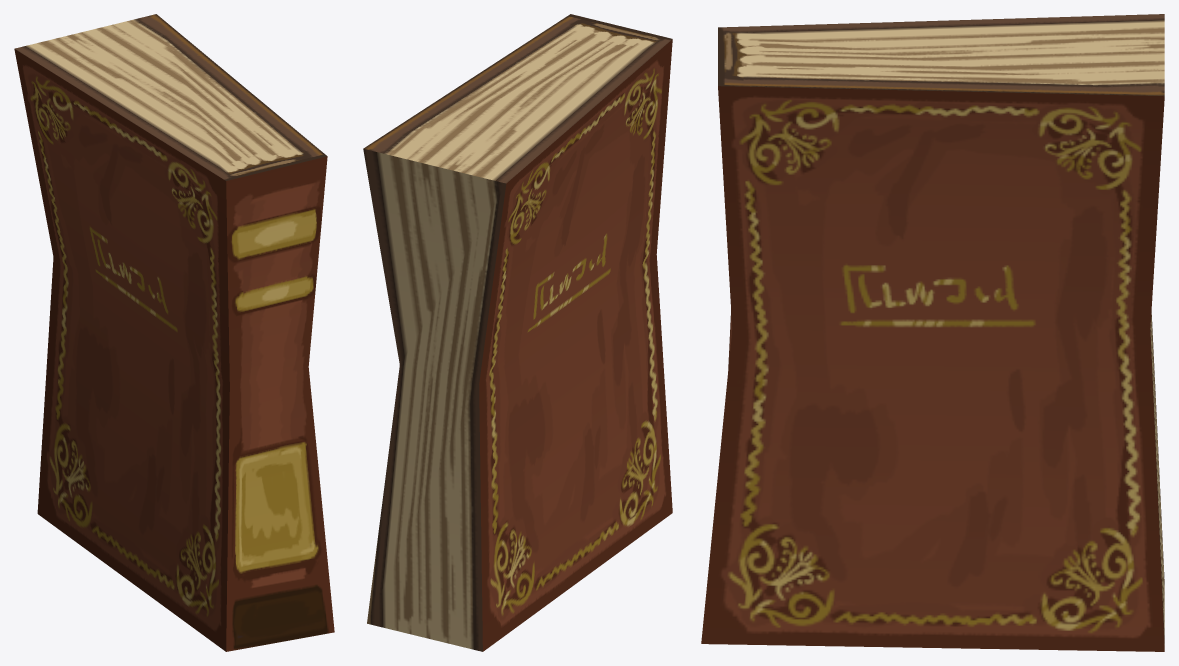
File: SM_PROP_book_dungeon_01.fbx
The picture shows the model from 3 angles, left to right: view 1: azimuth 30°, elevation 25°; view 2: azimuth 150°, elevation 25°; view 3: azimuth 270°, elevation 25°; orthographic projection. The views are drawn at different scales.
Visible parts, largest first — view 1: SM_PROP_book_dungeon_01; view 2: SM_PROP_book_dungeon_01; view 3: SM_PROP_book_dungeon_01.
Boxes of the visible parts, left/top/right/bottom form: SM_PROP_book_dungeon_01: left=14, top=14, right=334, bottom=651; SM_PROP_book_dungeon_01: left=363, top=14, right=672, bottom=651; SM_PROP_book_dungeon_01: left=701, top=14, right=1164, bottom=651.
Bounding box in the file's own units: 9.31 × 29.46 × 22.18.
